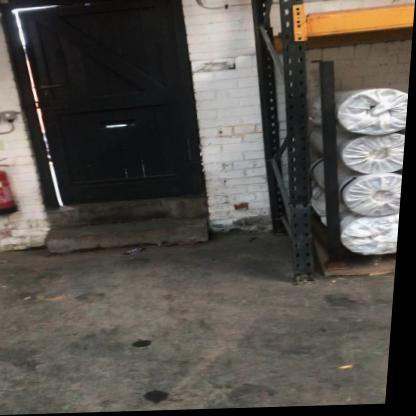vertical_damage: (283, 175, 324, 233)
